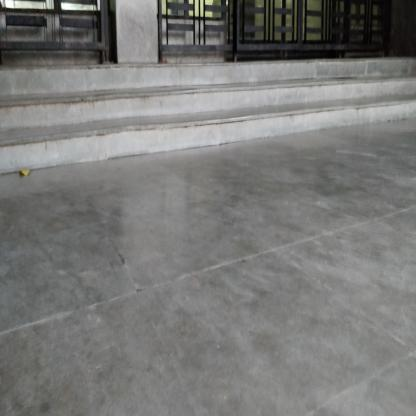stairs: (185, 64, 317, 161)
